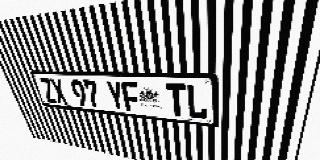7: (82, 80, 102, 108)
9: (69, 79, 89, 107)
F: (120, 81, 142, 113)
L: (186, 84, 208, 120)
T: (165, 83, 187, 118)
X: (49, 79, 69, 105)
Y: (105, 81, 126, 111)
Z: (39, 78, 58, 104)
